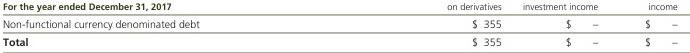column: (3, 1, 200, 53), (523, 1, 599, 52), (446, 1, 502, 53), (645, 1, 679, 53)
row: (1, 18, 690, 30), (1, 2, 689, 12), (1, 38, 690, 47)
